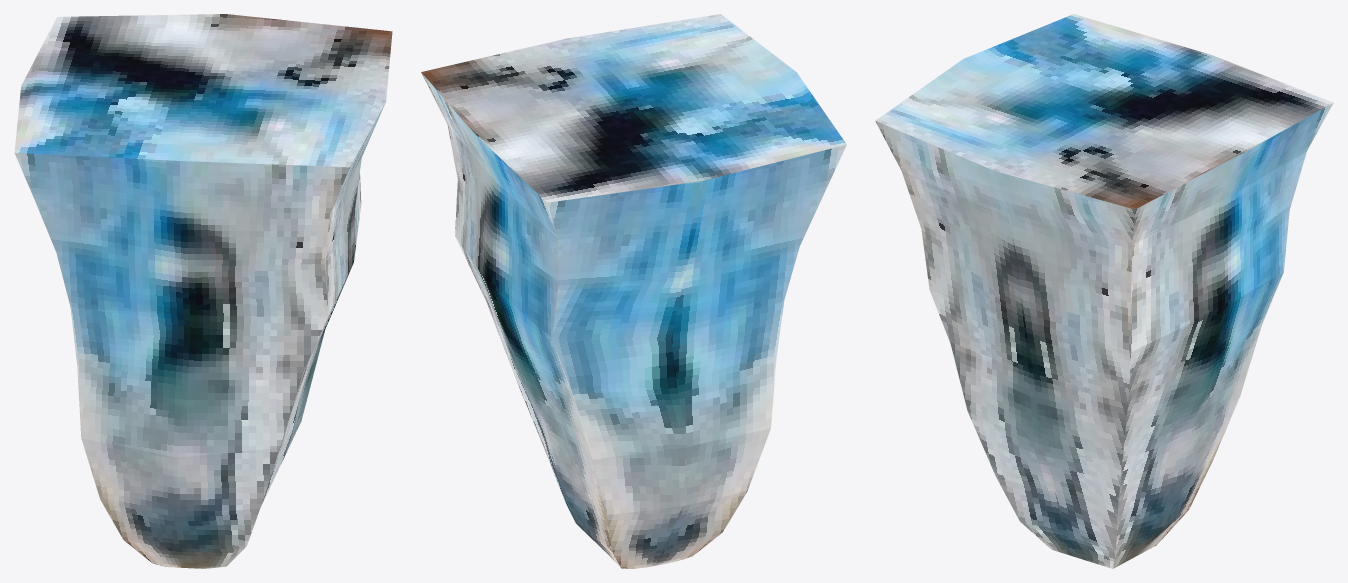
3 views of the same model, side by side, from view 1: azimuth 30°, elevation 25°; view 2: azimuth 150°, elevation 25°; view 3: azimuth 270°, elevation 25° (orthographic). The views are drawn at different scales.
Parts seen in each view (by area): view 1: SPLICE_1.006; view 2: SPLICE_1.006; view 3: SPLICE_1.006.
Part boxes in pixels (bbox=[...]): SPLICE_1.006: bbox=[14, 14, 392, 568]; SPLICE_1.006: bbox=[421, 14, 846, 568]; SPLICE_1.006: bbox=[875, 14, 1333, 568].
Bounding box in the file's own units: 1.03 × 1.14 × 1.03.
Materials: 1 (1 with a texture image).
